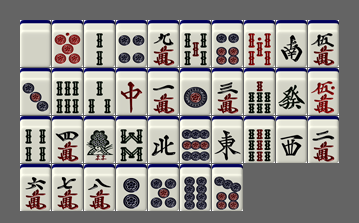0m: (308, 68, 339, 115)
0p: (52, 20, 83, 67)
0s: (244, 20, 275, 67)
1m: (148, 68, 179, 115)
1p: (180, 68, 211, 115)
1s: (84, 116, 115, 163)
1z: (212, 116, 243, 163)
2m: (308, 116, 339, 163)
2p: (116, 164, 147, 211)
2s: (84, 20, 115, 67)
2z: (276, 20, 307, 67)
3m: (212, 68, 243, 115)
3p: (20, 68, 51, 115)
3s: (84, 68, 115, 115)
3z: (276, 116, 307, 163)
4m: (52, 116, 83, 163)
4p: (116, 20, 147, 67)
4s: (20, 116, 51, 163)
4z: (148, 116, 179, 163)
5m: (308, 20, 339, 67)
5p: (148, 164, 179, 211)
5s: (180, 20, 211, 67)
5z: (20, 20, 51, 67)
6m: (20, 164, 51, 211)
6p: (212, 20, 243, 67)
6s: (52, 68, 83, 115)
6z: (276, 68, 307, 115)
7m: (52, 164, 83, 211)
7p: (212, 164, 243, 211)
7s: (244, 68, 275, 115)
7z: (116, 68, 147, 115)
8m: (84, 164, 115, 211)
8p: (180, 164, 211, 211)
8s: (116, 116, 147, 163)
9m: (148, 20, 179, 67)
9p: (180, 116, 211, 163)
9s: (244, 116, 275, 163)
